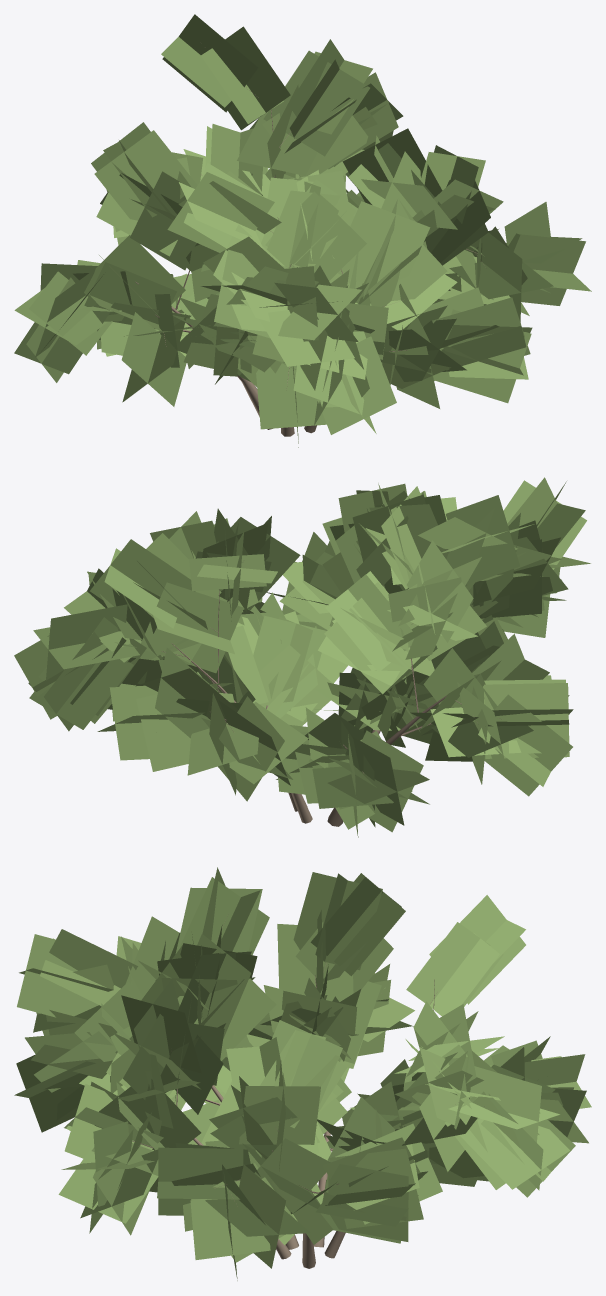
Rendered from Hazel_3_lod0.glb.
3 views of the same model, one above another, from view 1: azimuth 30°, elevation 25°; view 2: azimuth 150°, elevation 25°; view 3: azimuth 270°, elevation 25° (orthographic).
Parts seen in each view (by area): view 1: Hazel_3_lod0; view 2: Hazel_3_lod0; view 3: Hazel_3_lod0.
Part boxes in pixels (bbox=[...]): Hazel_3_lod0: bbox=[14, 14, 591, 447]; Hazel_3_lod0: bbox=[14, 477, 590, 837]; Hazel_3_lod0: bbox=[14, 867, 591, 1280].
Size of the model in its own units: 3.93 by 2.53 by 3.7.
